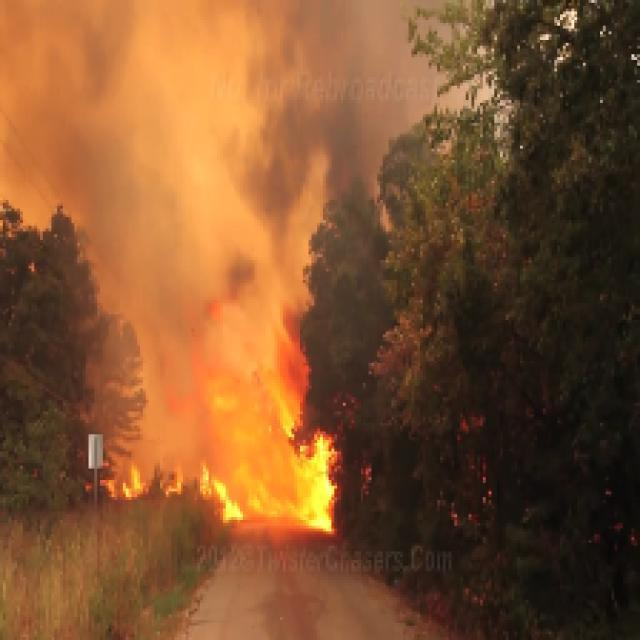Fire: (168, 337, 352, 532)
Smoke: (114, 97, 289, 320)
